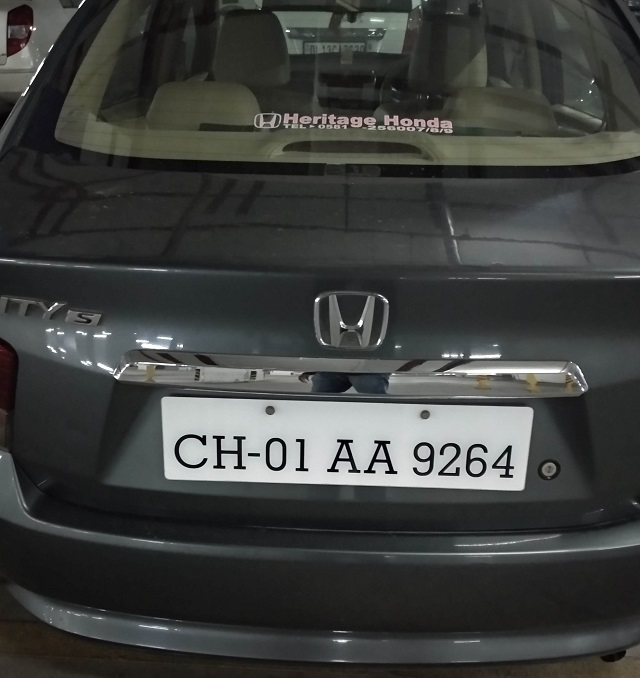licenseplate: (156, 392, 537, 497)
